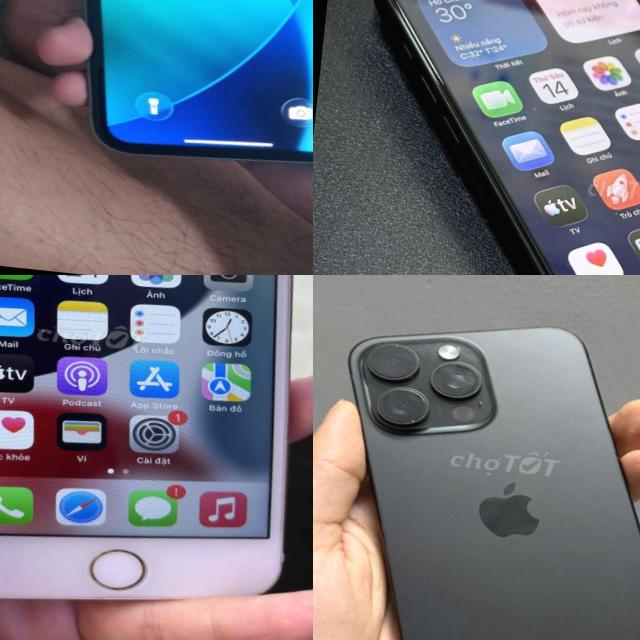gen_11: (27, 0, 313, 177)
gen_15: (313, 291, 640, 640)
gen_16: (316, 0, 640, 275)
gen_7_8: (0, 275, 313, 628)
